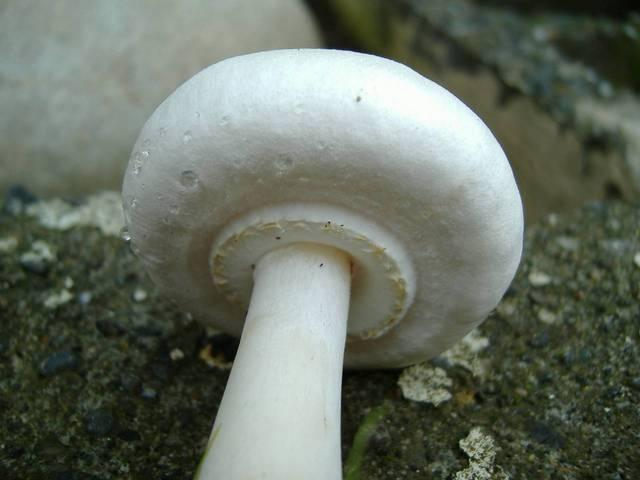poisonous_mushroom: (119, 46, 525, 478)
